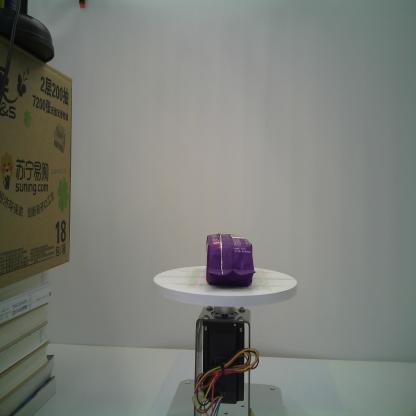Dessert: (206, 233, 256, 288)
